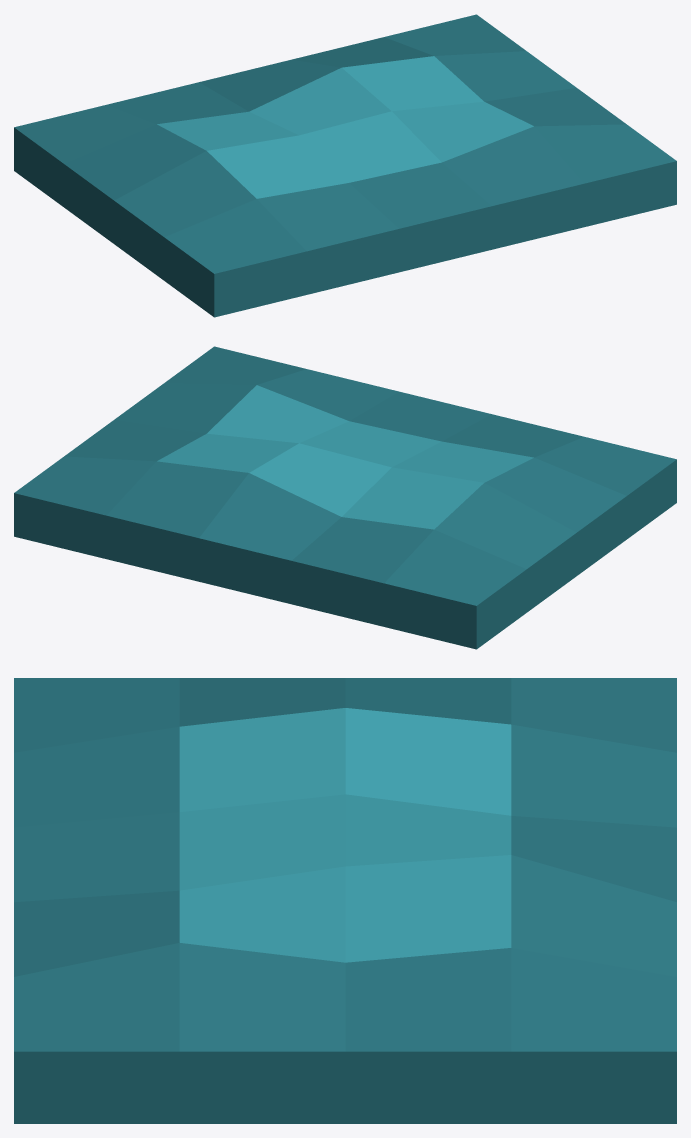
Rendered from Towel.fbx.
The picture shows the model from 3 angles, top to bottom: view 1: azimuth 30°, elevation 25°; view 2: azimuth 150°, elevation 25°; view 3: azimuth 270°, elevation 25°; orthographic projection. The views are drawn at different scales.
Parts seen in each view (by area): view 1: Towel; view 2: Towel; view 3: Towel.
Part boxes in pixels (x1,y1,x2,y2): Towel: [14, 14, 676, 317]; Towel: [14, 346, 676, 649]; Towel: [14, 678, 676, 1123].
Bounding box in the file's own units: 0.2 × 0.0367 × 0.15.
